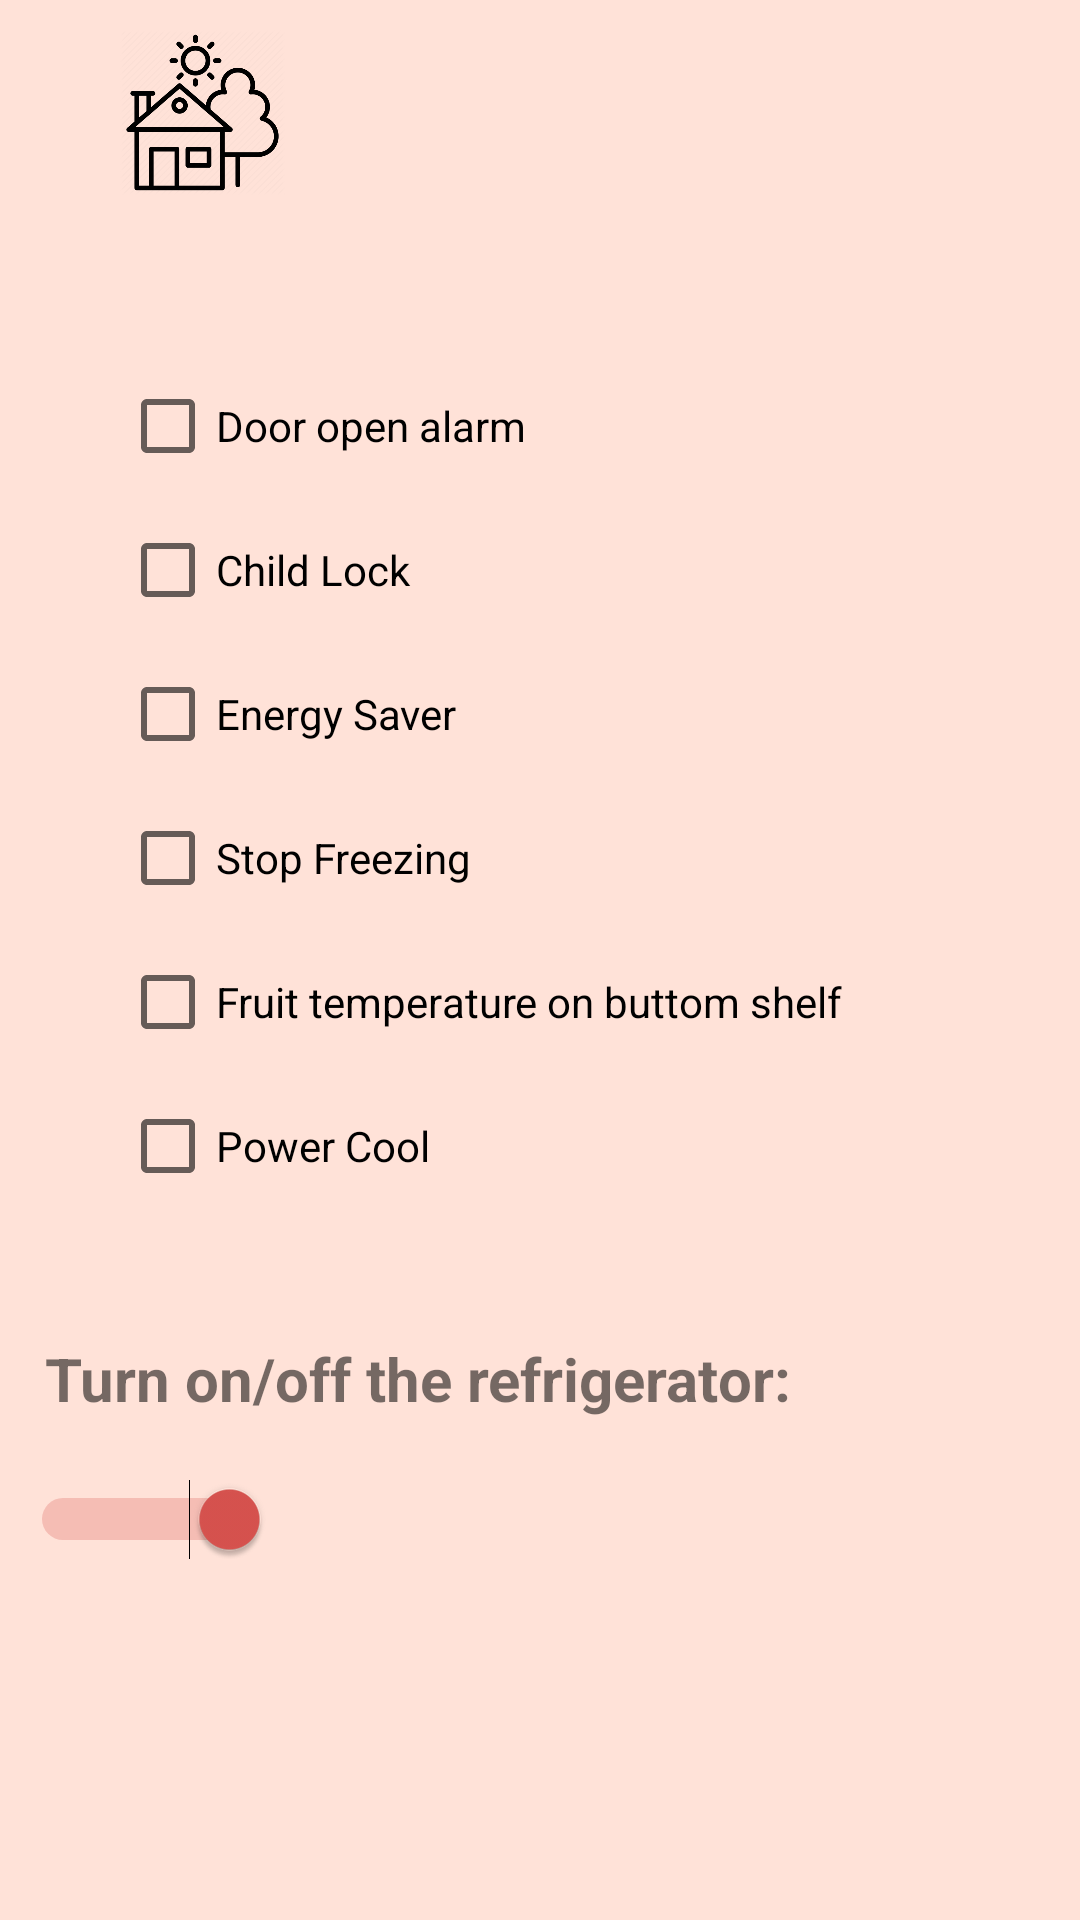

Icons on this 1080 × 1920 Android screen, each with the point to tap as [x,y]:
house: [202,112]
